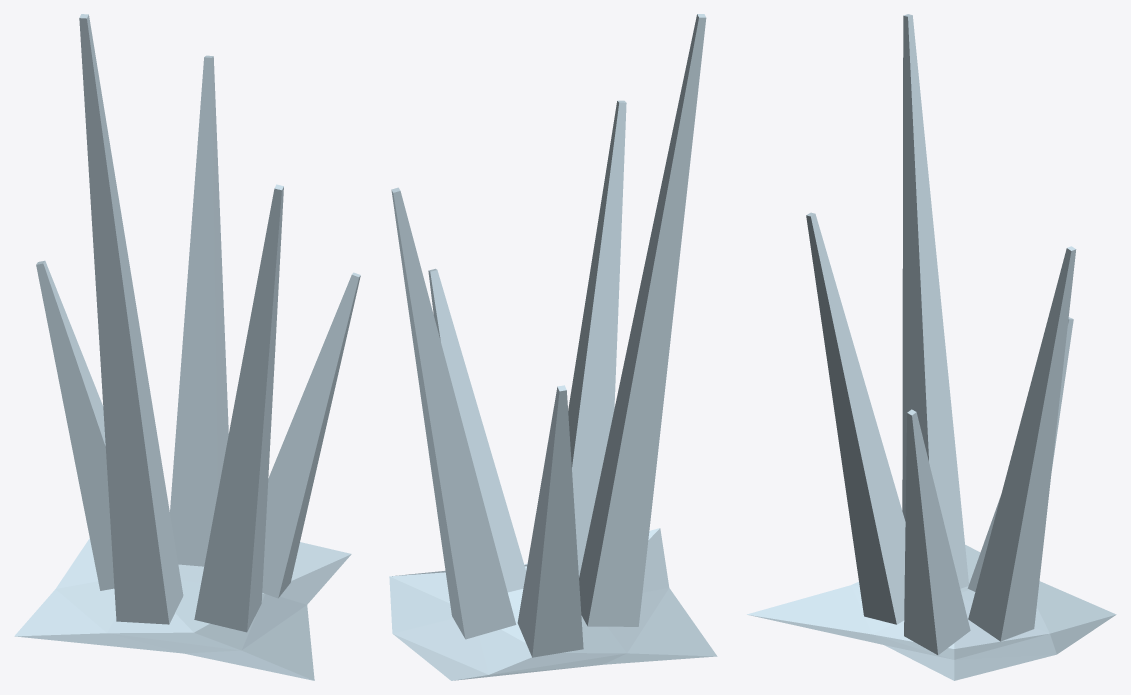
Rendered from ice_shard_v38.glb.
3 renders of one model, left to right at view 1: azimuth 30°, elevation 25°; view 2: azimuth 150°, elevation 25°; view 3: azimuth 270°, elevation 25°, orthographic. The views are drawn at different scales.
Visible parts, largest first — view 1: lod0; view 2: lod0; view 3: lod0.
Boxes of the visible parts, box(x1,y1,x2,y2) form: lod0: box(14, 14, 360, 680); lod0: box(389, 14, 717, 680); lod0: box(747, 14, 1116, 680).
Size of what is drawn, in the model's own units: 0.7023 by 1.33 by 0.7747.
